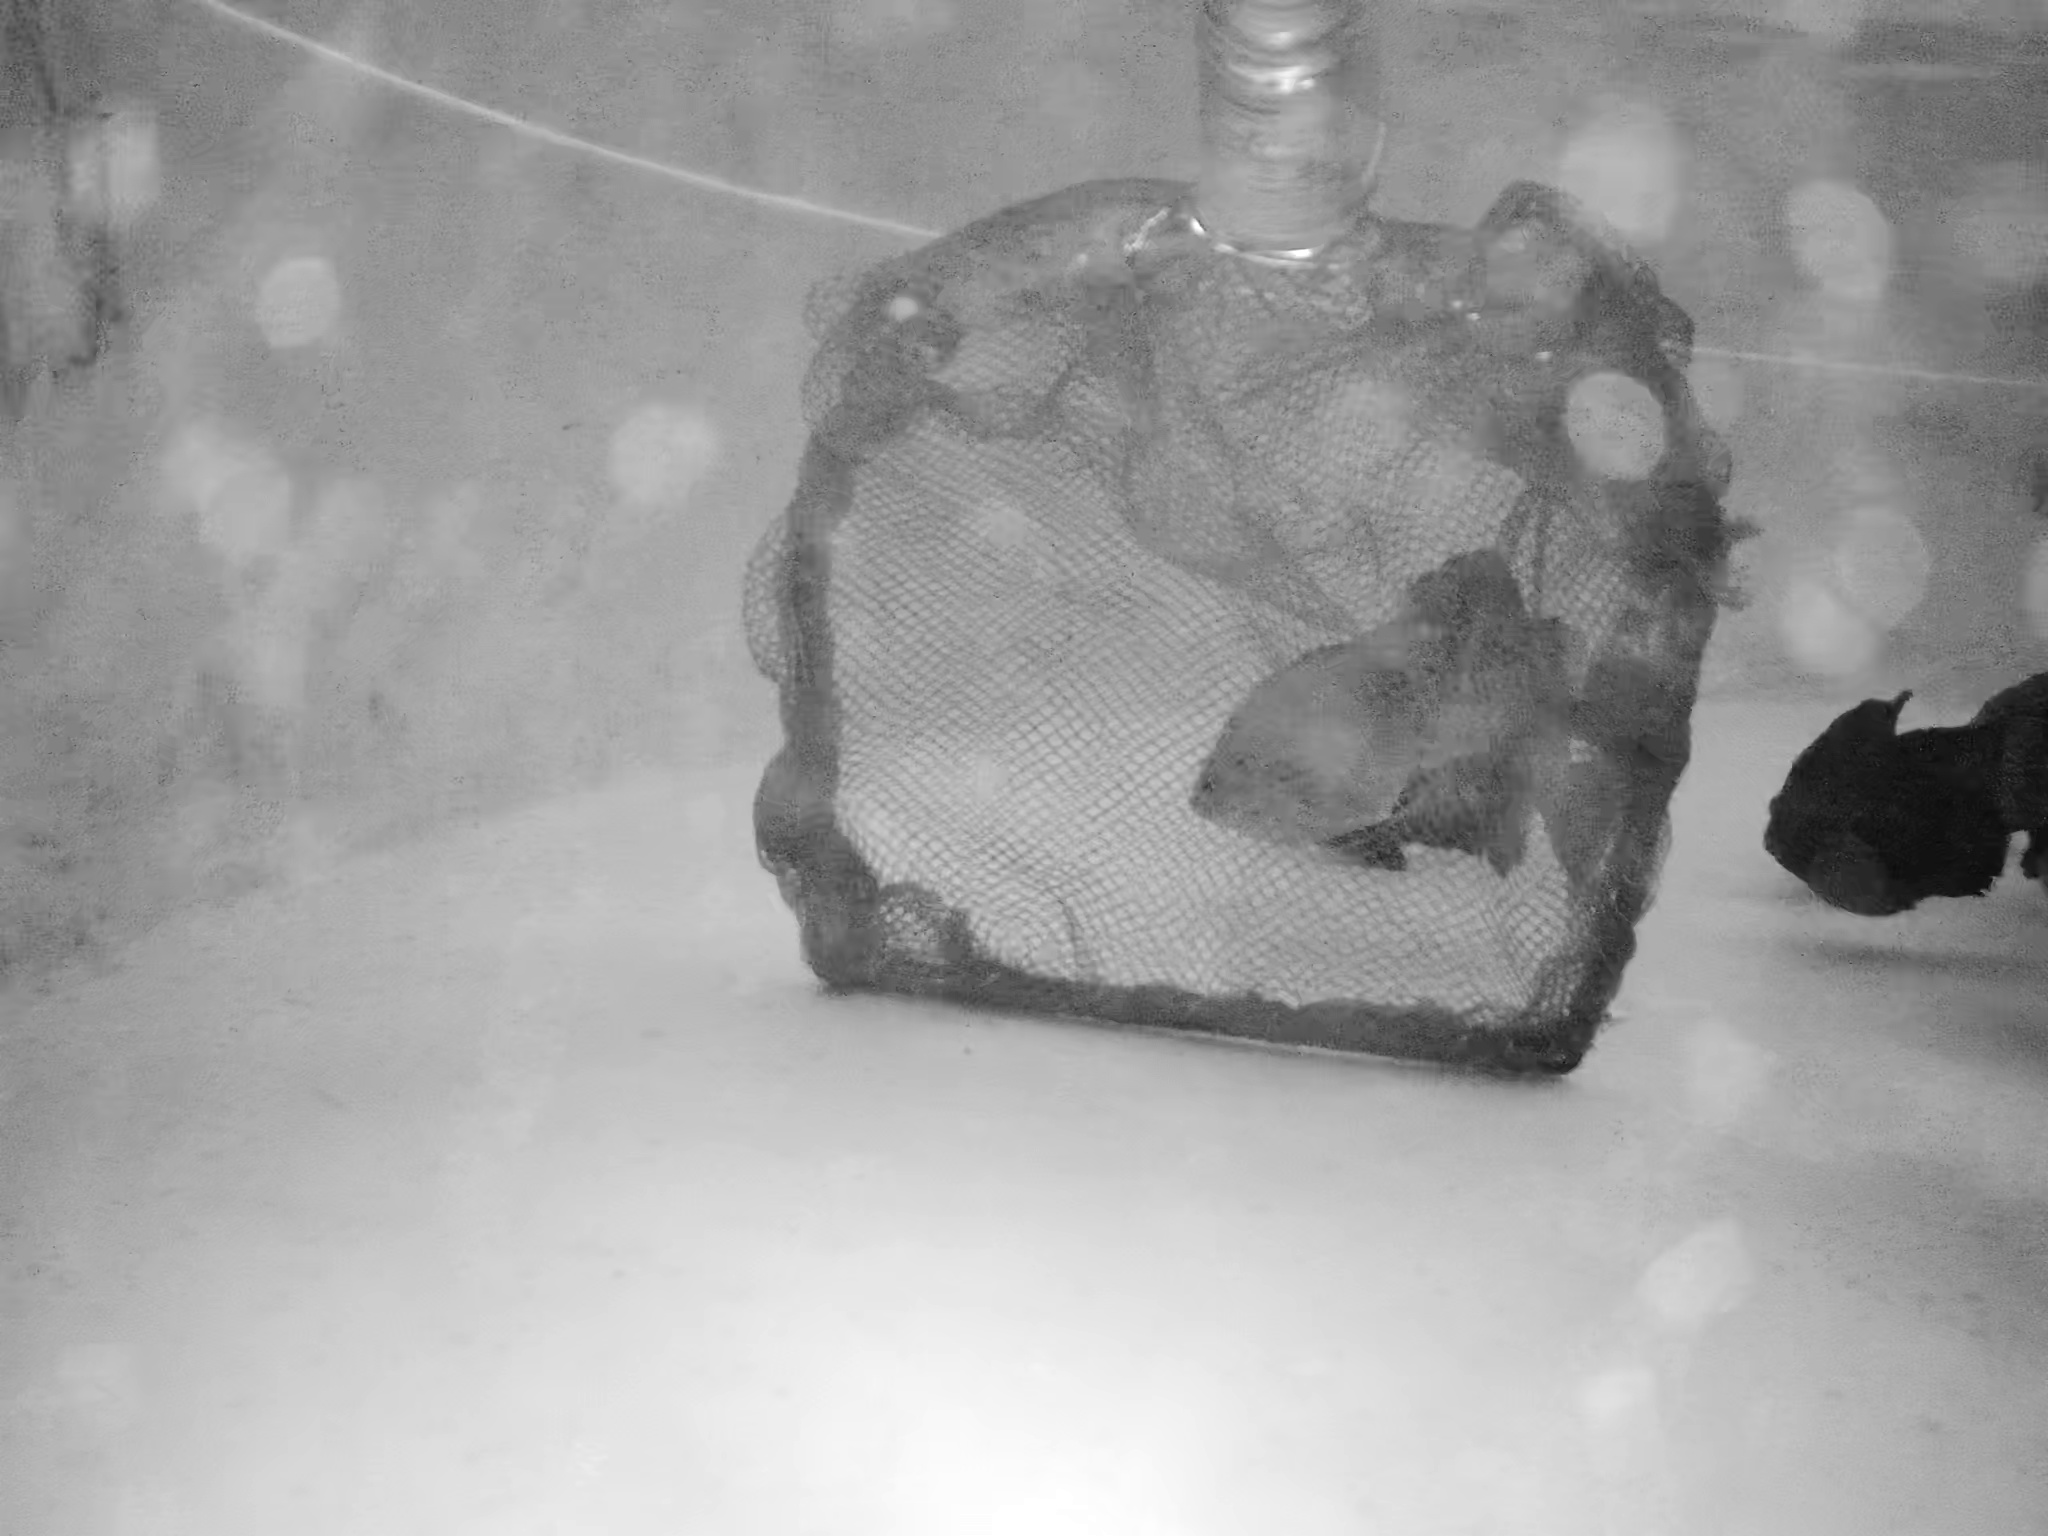fish: (1166, 637, 1556, 841), (1759, 673, 2048, 907), (1314, 765, 1579, 873)
